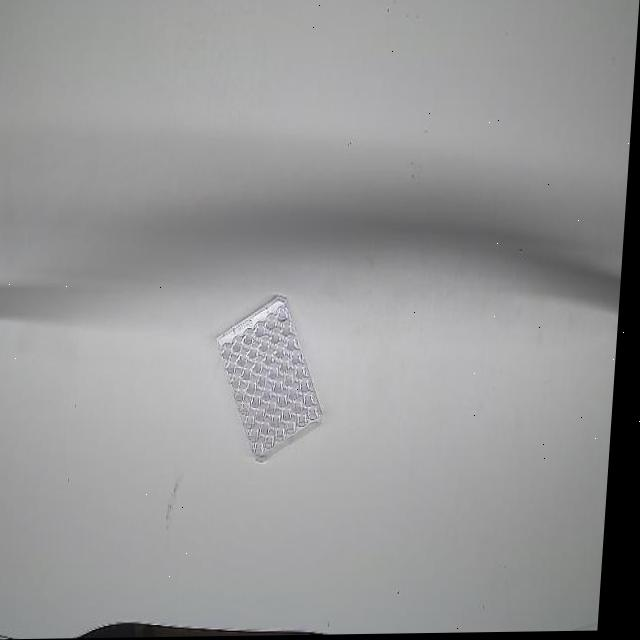Cell Culture Plate - 24: (210, 289, 338, 467)
